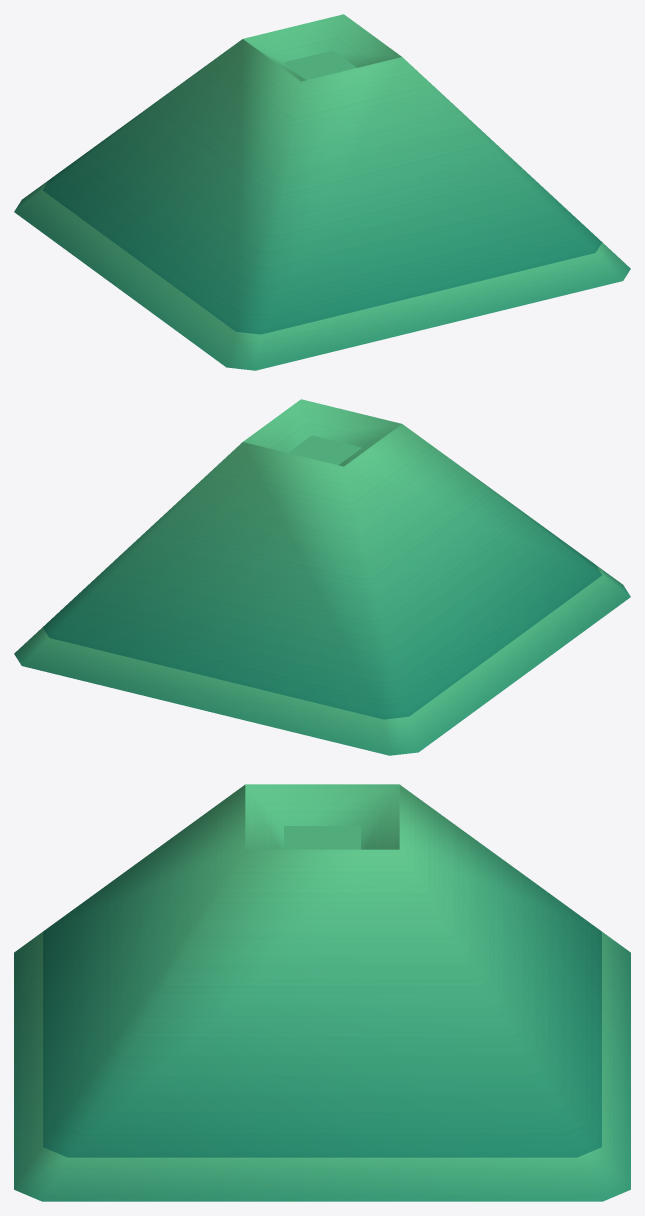
The model's file is roof-point.glb.
3 views of the same model, one above another, from view 1: azimuth 30°, elevation 25°; view 2: azimuth 150°, elevation 25°; view 3: azimuth 270°, elevation 25° (orthographic). The views are drawn at different scales.
Visible parts, largest first — view 1: roof-point; view 2: roof-point; view 3: roof-point.
Part boxes in pixels (bbox=[...]): roof-point: bbox=[14, 14, 630, 370]; roof-point: bbox=[14, 399, 630, 755]; roof-point: bbox=[14, 784, 630, 1201].
Bounding box in the file's own units: 1.1 × 0.5 × 1.1.
Materials: 1 (1 with a texture image).
